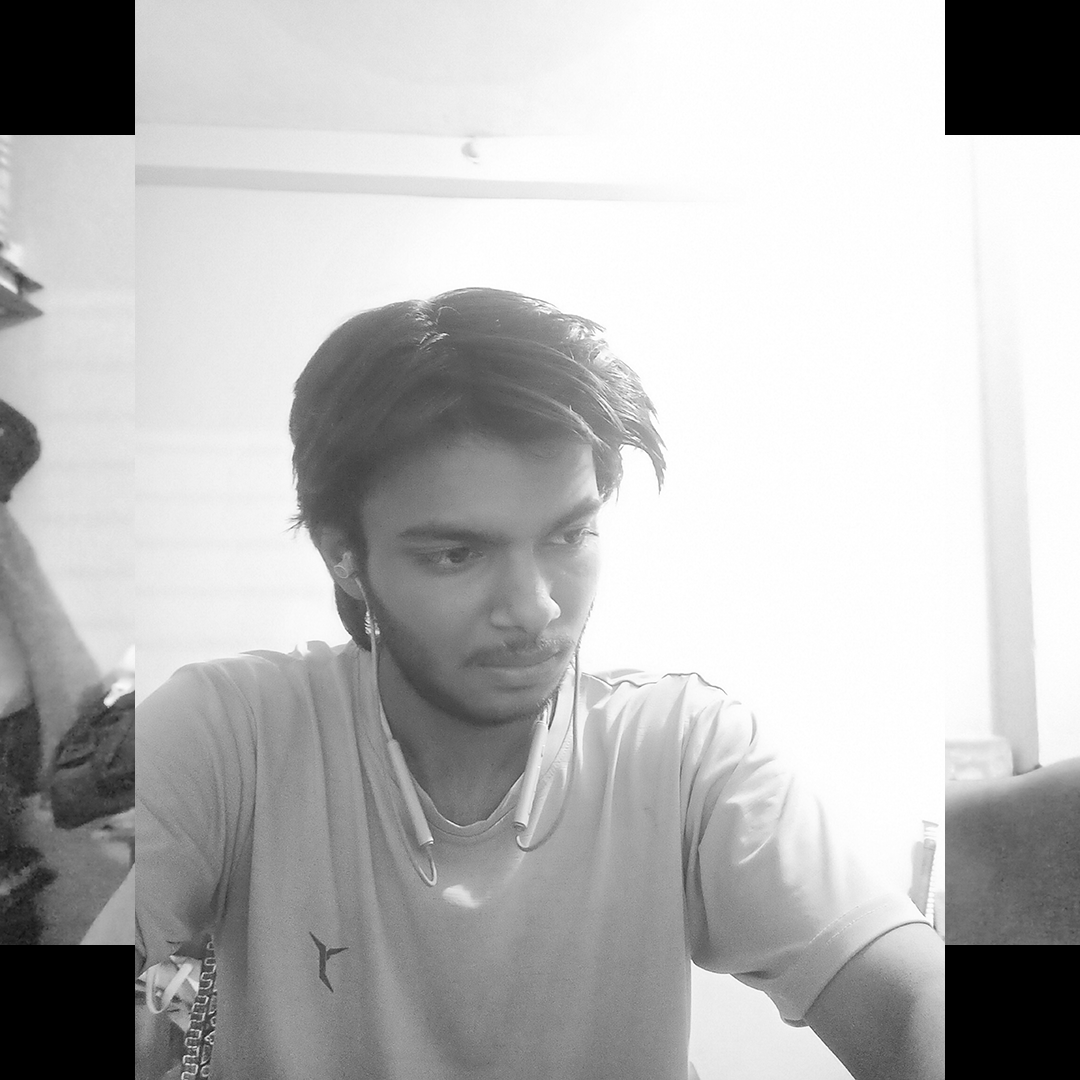distracted: (255, 238, 762, 837)
